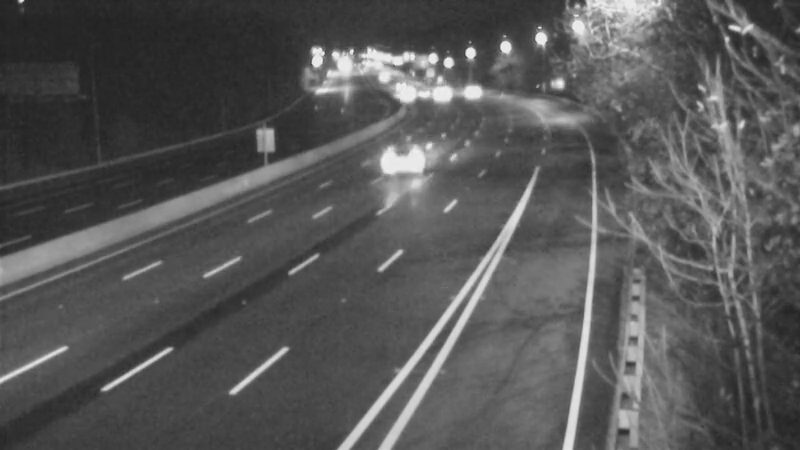vehicle: (372, 123, 452, 203), (444, 62, 494, 112), (417, 72, 467, 122), (399, 70, 449, 120), (378, 69, 428, 119)
